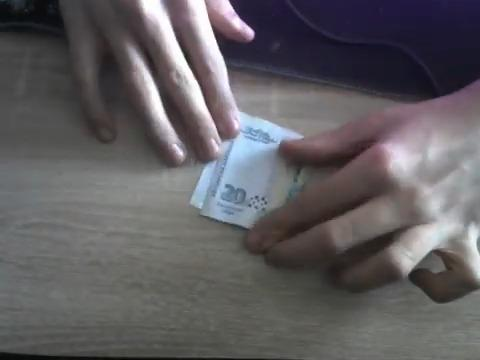20leva: (189, 113, 305, 230)
